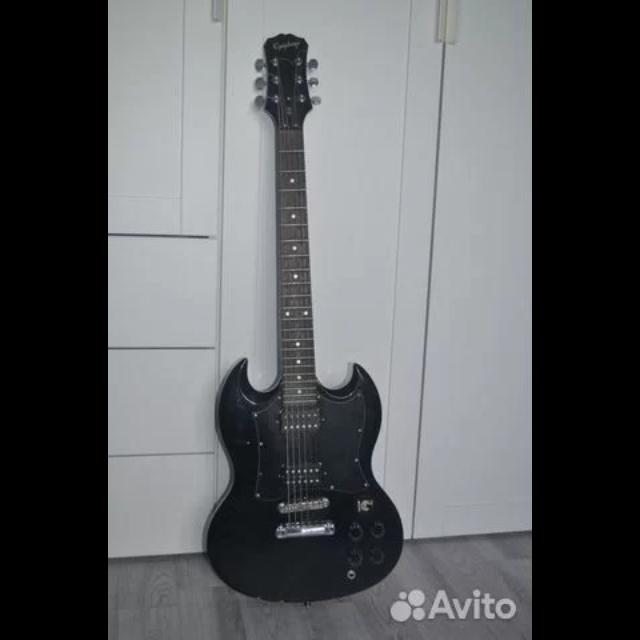Electric-Guitar: (206, 34, 404, 602)
